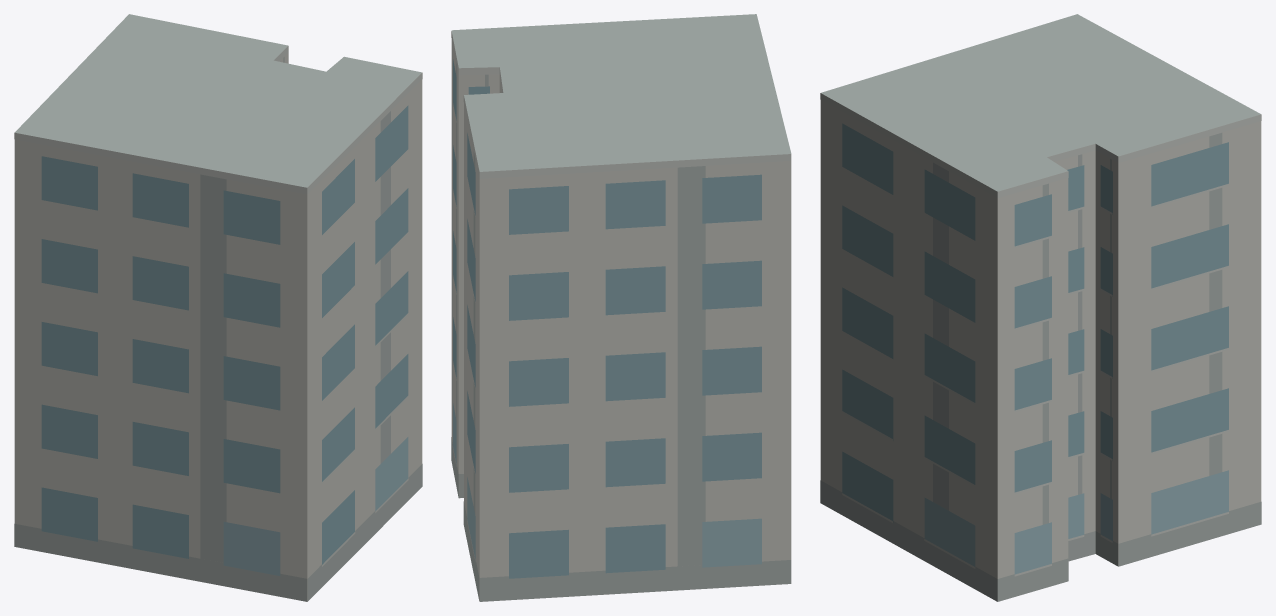
File: survey-upis-32591811.glb
3 renders of one model, left to right at view 1: azimuth 30°, elevation 25°; view 2: azimuth 150°, elevation 25°; view 3: azimuth 270°, elevation 25°, orthographic. The views are drawn at different scales.
Parts seen in each view (by area): view 1: survey-upis-32591811.tmp; view 2: survey-upis-32591811.tmp; view 3: survey-upis-32591811.tmp.
Boxes of the visible parts, x1,y1,x2,y2 form: survey-upis-32591811.tmp: (14,14,422,601); survey-upis-32591811.tmp: (451,14,791,601); survey-upis-32591811.tmp: (820,14,1261,601).
Bounding box in the file's own units: 13.81 × 14.85 × 14.48.
